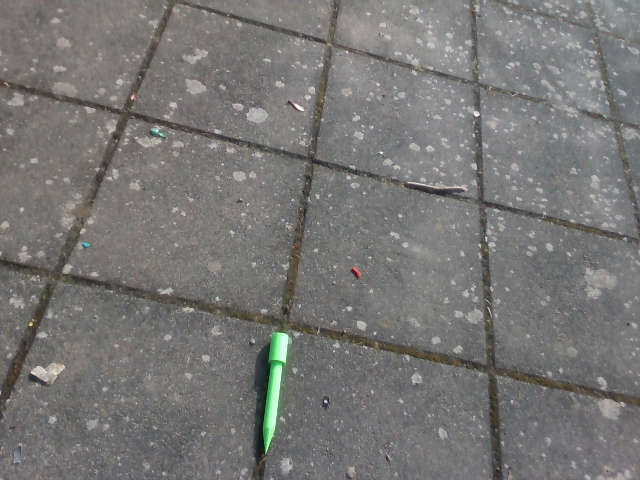Probe: (253, 328, 294, 462)
